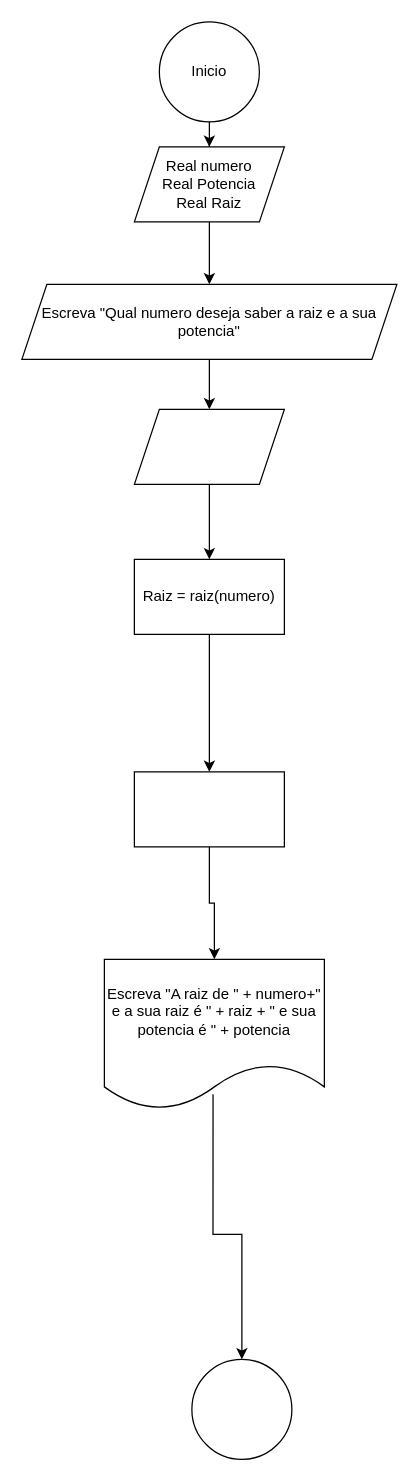
Some shapes in this 419 by 1481 pixel diagram are drawn without their labels. Each missing label, with the box of its shape:
Fim: (191, 1358, 292, 1459)
Leia numero: (133, 408, 284, 484)
potencia = numero * numero: (133, 771, 284, 847)
